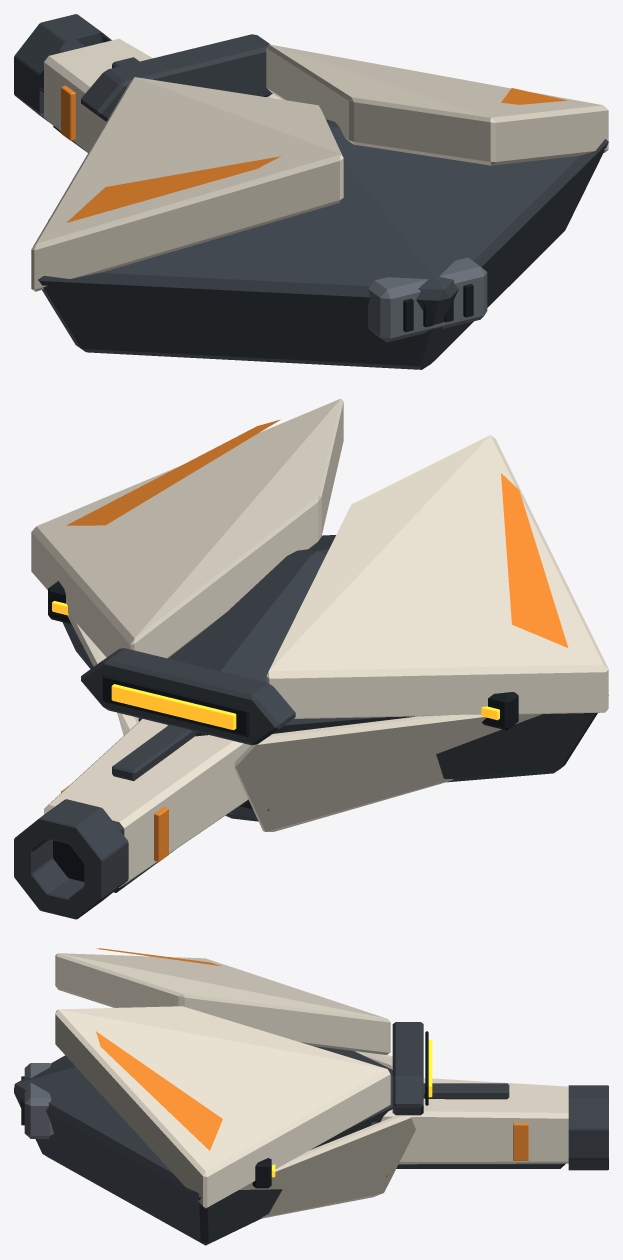
File: Aguja.fbx
3 views of the same model, one above another, from view 1: azimuth 30°, elevation 25°; view 2: azimuth 150°, elevation 25°; view 3: azimuth 270°, elevation 25° (orthographic). The views are drawn at different scales.
Parts seen in each view (by area): view 1: Body_Chassis, Body_Upper armor -1, Body_Upper armor 1, Body_Visor socket, Body_Rear vent, Gun_Armor shroud, Gun_Open octagonal muzzle, Body_Orange shell marking -1, Gun_Orange stripe, Body_Orange shell marking 1; view 2: Body_Upper armor -1, Body_Upper armor 1, Body_Lower armor -1, Body_Chassis, Gun_Armor shroud, Gun_Open octagonal muzzle, Body_Visor socket, Body_Orange shell marking -1, Body_Orange shell marking 1, Body_Amber visor, Body_Optic recess, Gun_Top graphite rail (+4 smaller); view 3: Body_Upper armor 1, Body_Upper armor -1, Body_Chassis, Gun_Armor shroud, Body_Lower armor 1, Gun_Open octagonal muzzle, Body_Orange shell marking 1, Body_Visor socket, Body_Rear vent, Gun_Top graphite rail, Gun_Barrel core, Gun_Orange stripe.001 (+1 smaller).
Boxes of the visible parts, box(x1,y1,x2,y2) form: Body_Chassis: box(38, 119, 608, 369); Body_Upper armor -1: box(31, 77, 343, 291); Body_Upper armor 1: box(266, 44, 608, 165); Body_Visor socket: box(81, 34, 272, 121); Body_Rear vent: box(368, 257, 487, 342); Gun_Armor shroud: box(44, 38, 152, 152); Gun_Open octagonal muzzle: box(14, 14, 111, 124); Body_Orange shell marking -1: box(66, 156, 280, 222); Gun_Orange stripe: box(61, 86, 75, 140); Body_Orange shell marking 1: box(501, 88, 567, 104); Body_Upper armor -1: box(266, 435, 608, 718); Body_Upper armor 1: box(31, 398, 343, 658); Body_Lower armor -1: box(235, 714, 542, 831); Body_Chassis: box(62, 535, 608, 782); Gun_Armor shroud: box(44, 719, 250, 887); Gun_Open octagonal muzzle: box(14, 799, 128, 919); Body_Visor socket: box(81, 648, 295, 745); Body_Orange shell marking -1: box(501, 473, 568, 647); Body_Orange shell marking 1: box(66, 419, 280, 525); Body_Amber visor: box(111, 684, 236, 730); Body_Optic recess: box(102, 674, 249, 736); Gun_Top graphite rail: box(112, 724, 195, 781); Body_Upper armor 1: box(55, 1006, 390, 1208); Body_Upper armor -1: box(55, 953, 390, 1054); Body_Chassis: box(14, 1045, 392, 1245); Gun_Armor shroud: box(381, 1078, 568, 1164); Body_Lower armor 1: box(239, 1116, 415, 1218); Gun_Open octagonal muzzle: box(568, 1085, 608, 1170); Body_Orange shell marking 1: box(96, 1031, 222, 1150); Body_Visor socket: box(392, 1022, 423, 1115); Body_Rear vent: box(24, 1063, 53, 1138); Gun_Top graphite rail: box(423, 1083, 509, 1099); Gun_Barrel core: box(396, 1163, 565, 1168); Gun_Orange stripe.001: box(513, 1123, 528, 1160).
Size of the model in its own units: 215 by 95.56 by 250.
